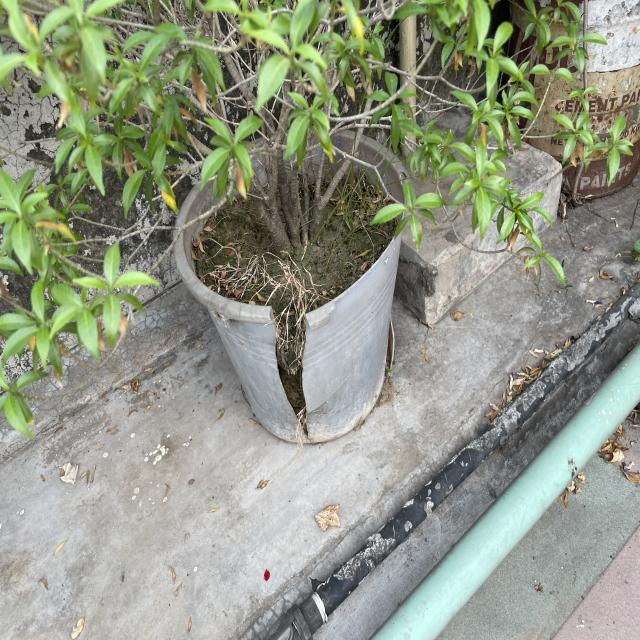Breeding Place: (176, 123, 396, 442)
